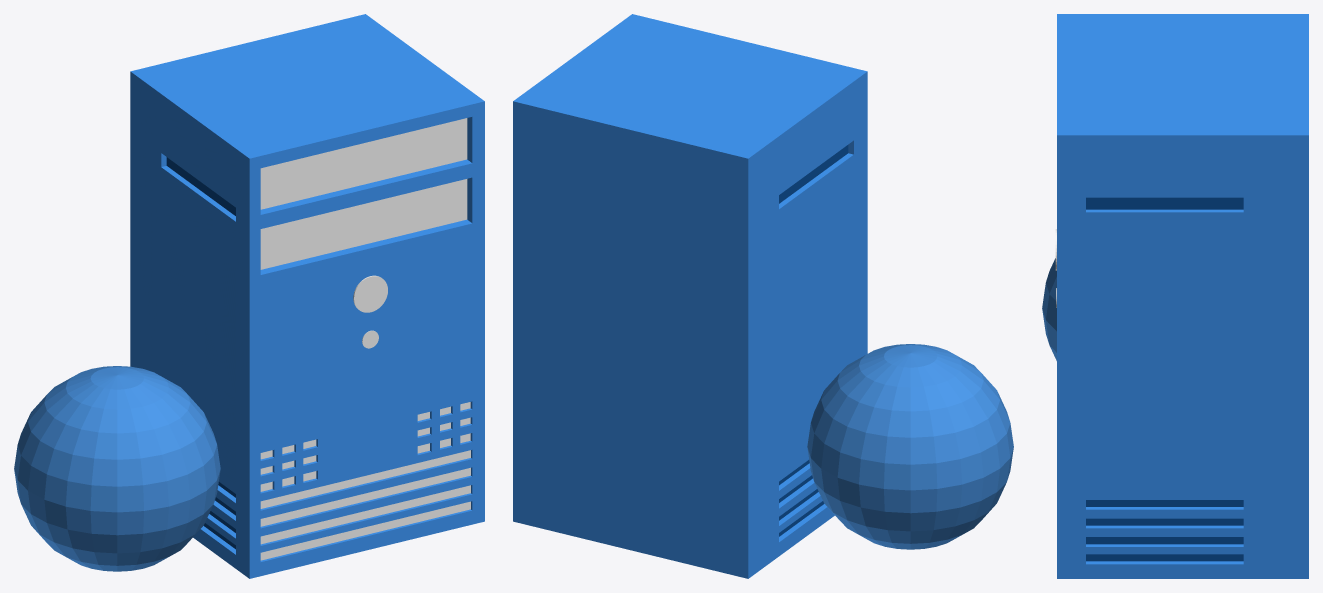
Rendered from fuwuqi3.obj.
The picture shows the model from 3 angles, left to right: view 1: azimuth 30°, elevation 25°; view 2: azimuth 150°, elevation 25°; view 3: azimuth 270°, elevation 25°; orthographic projection. The views are drawn at different scales.
Parts seen in each view (by area): view 1: fuwuqi3; view 2: fuwuqi3; view 3: fuwuqi3.
Boxes of the visible parts, x1,y1,x2,y2 form: fuwuqi3: (14, 14, 484, 578); fuwuqi3: (513, 14, 1013, 578); fuwuqi3: (1042, 14, 1308, 578).
Bounding box in the file's own units: 70.98 × 69.13 × 37.66.
